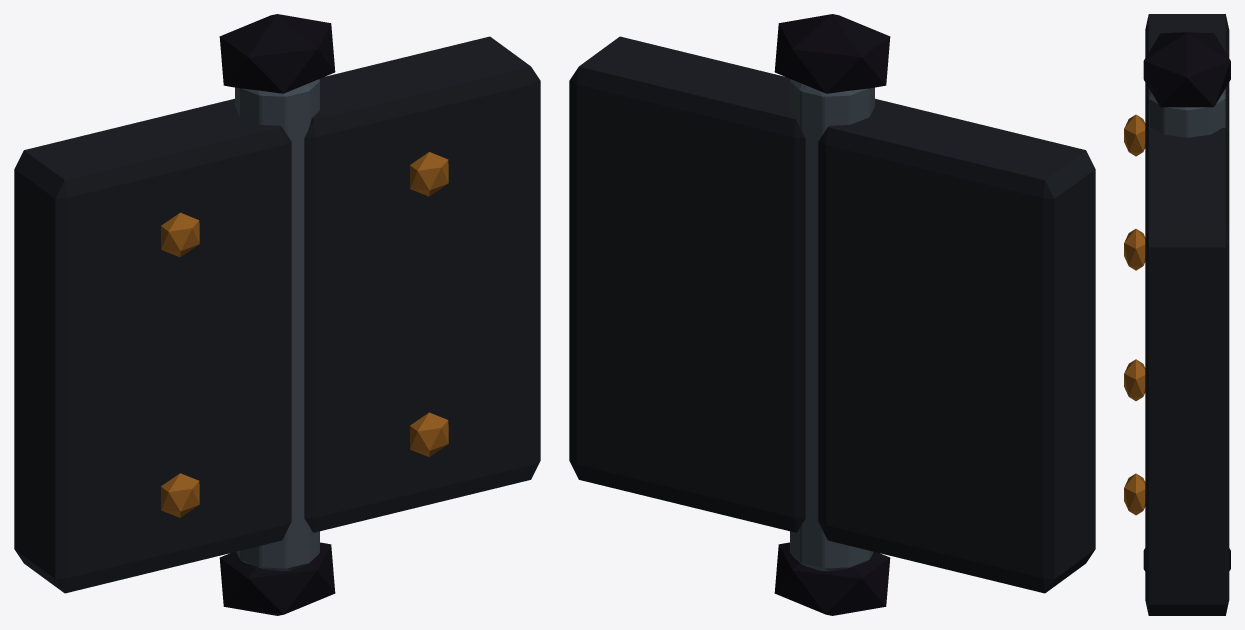
Rendered from black_hinge.obj.
3 renders of one model, left to right at view 1: azimuth 30°, elevation 25°; view 2: azimuth 150°, elevation 25°; view 3: azimuth 270°, elevation 25°, orthographic. The views are drawn at different scales.
Visible parts, largest first — view 1: Hinge_Plate-1.001_MAT_DarkIron, Hinge_Plate1.001_MAT_DarkIron, Hinge_Pin.001_MAT_Iron, Hinge_PinTop.001_MAT_Obsidian, Hinge_PinBottom.001_MAT_Obsidian, Hinge_Rivet1_0.001_MAT_OldGold, Hinge_Rivet-1_0.001_MAT_OldGold, Hinge_Rivet1_-0.001_MAT_OldGold, Hinge_Rivet-1_-0.001_MAT_OldGold; view 2: Hinge_Plate-1.001_MAT_DarkIron, Hinge_Plate1.001_MAT_DarkIron, Hinge_Pin.001_MAT_Iron, Hinge_PinTop.001_MAT_Obsidian, Hinge_PinBottom.001_MAT_Obsidian; view 3: Hinge_Plate1.001_MAT_DarkIron, Hinge_PinTop.001_MAT_Obsidian, Hinge_Plate-1.001_MAT_DarkIron, Hinge_Pin.001_MAT_Iron, Hinge_Rivet-1_0.001_MAT_OldGold, Hinge_Rivet1_-0.001_MAT_OldGold, Hinge_Rivet-1_-0.001_MAT_OldGold, Hinge_Rivet1_0.001_MAT_OldGold.
Boxes of the visible parts, x1=… form: Hinge_Plate-1.001_MAT_DarkIron: x1=14, y1=98, x2=291, y2=593; Hinge_Plate1.001_MAT_DarkIron: x1=304, y1=36, x2=540, y2=532; Hinge_Pin.001_MAT_Iron: x1=235, y1=79, x2=319, y2=571; Hinge_PinTop.001_MAT_Obsidian: x1=219, y1=14, x2=335, y2=93; Hinge_PinBottom.001_MAT_Obsidian: x1=219, y1=542, x2=335, y2=615; Hinge_Rivet1_0.001_MAT_OldGold: x1=409, y1=152, x2=448, y2=196; Hinge_Rivet-1_0.001_MAT_OldGold: x1=161, y1=212, x2=199, y2=257; Hinge_Rivet1_-0.001_MAT_OldGold: x1=409, y1=412, x2=448, y2=456; Hinge_Rivet-1_-0.001_MAT_OldGold: x1=160, y1=473, x2=199, y2=517; Hinge_Plate-1.001_MAT_DarkIron: x1=818, y1=98, x2=1095, y2=593; Hinge_Plate1.001_MAT_DarkIron: x1=569, y1=36, x2=805, y2=532; Hinge_Pin.001_MAT_Iron: x1=790, y1=79, x2=874, y2=571; Hinge_PinTop.001_MAT_Obsidian: x1=774, y1=14, x2=890, y2=93; Hinge_PinBottom.001_MAT_Obsidian: x1=774, y1=542, x2=890, y2=615; Hinge_Plate1.001_MAT_DarkIron: x1=1145, y1=128, x2=1229, y2=615; Hinge_PinTop.001_MAT_Obsidian: x1=1143, y1=32, x2=1230, y2=107; Hinge_Plate-1.001_MAT_DarkIron: x1=1145, y1=14, x2=1229, y2=143; Hinge_Pin.001_MAT_Iron: x1=1149, y1=89, x2=1225, y2=137; Hinge_Rivet-1_0.001_MAT_OldGold: x1=1124, y1=114, x2=1145, y2=156; Hinge_Rivet1_-0.001_MAT_OldGold: x1=1124, y1=473, x2=1145, y2=515; Hinge_Rivet-1_-0.001_MAT_OldGold: x1=1124, y1=359, x2=1145, y2=400; Hinge_Rivet1_0.001_MAT_OldGold: x1=1124, y1=229, x2=1145, y2=270.
Size of the model in its own units: 2.26 by 2.68 by 0.4582.
